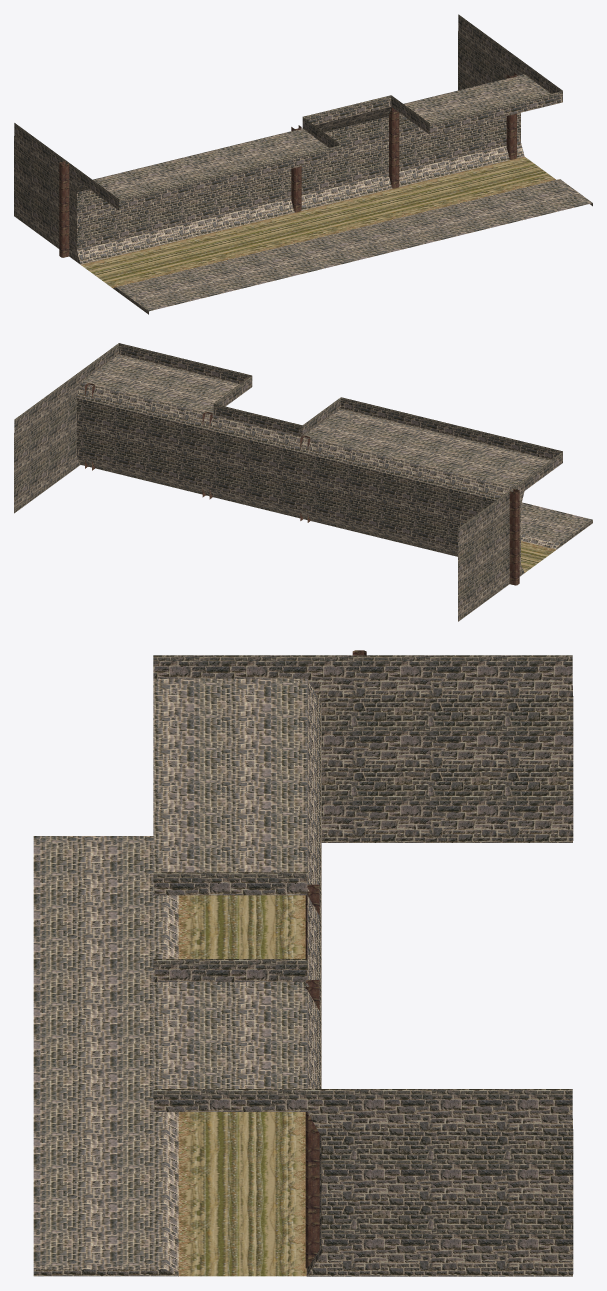
The model's file is terr_1tunnel_roofhole.FBX.
3 views of the same model, one above another, from view 1: azimuth 30°, elevation 25°; view 2: azimuth 150°, elevation 25°; view 3: azimuth 270°, elevation 25° (orthographic). The views are drawn at different scales.
Visible parts, largest first — view 1: Box02, road01, Box05, Box06, Box03, Box04; view 2: Box02, Box05, road01; view 3: Box02, road01, Box04.
Boxes of the visible parts, x1=… form: Box02: x1=14, y1=14, x2=592, y2=314; road01: x1=81, y1=156, x2=555, y2=288; Box05: x1=59, y1=161, x2=69, y2=257; Box06: x1=389, y1=107, x2=399, y2=188; Box03: x1=291, y1=125, x2=301, y2=212; Box04: x1=506, y1=72, x2=516, y2=159; Box02: x1=14, y1=343, x2=592, y2=621; Box05: x1=509, y1=488, x2=519, y2=585; road01: x1=521, y1=541, x2=556, y2=572; Box02: x1=33, y1=655, x2=573, y2=1276; road01: x1=178, y1=895, x2=306, y2=1276; Box04: x1=305, y1=1112, x2=319, y2=1268.
Size of the model in its own units: 203 by 40.4 by 105.
